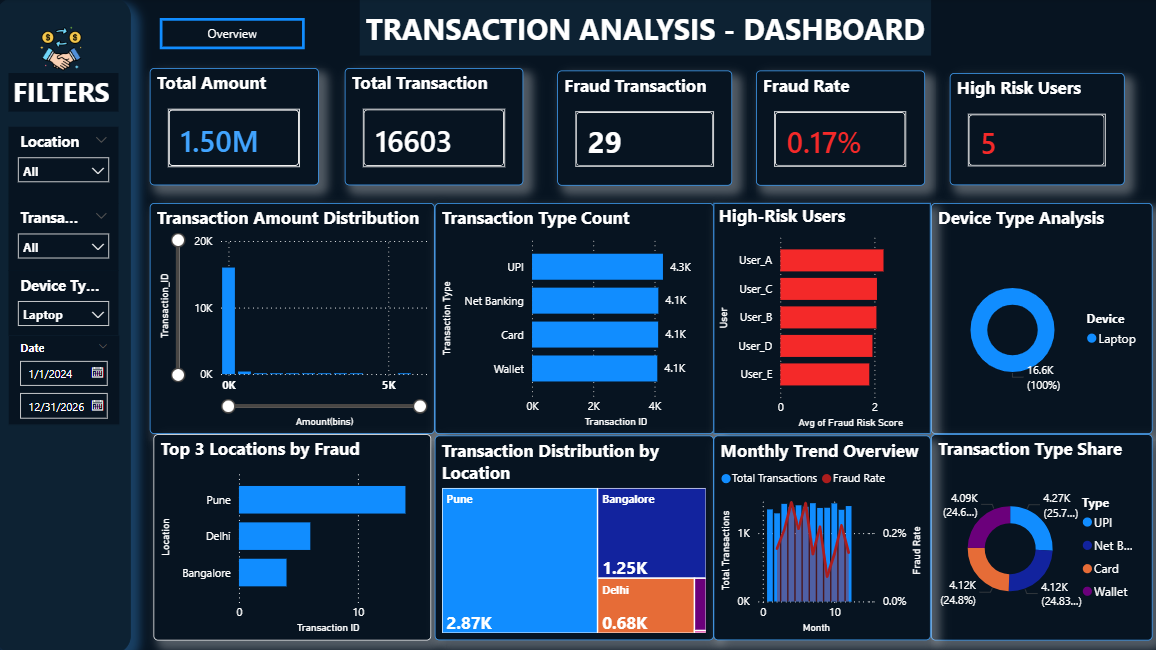

Layout of this report page (visuals, bound fields, positions):
{"tool":"powerbi","page":{"name":"Page 2","canvas":[1280,720],"ordinal":1},"visuals":[{"type":"textbox","title":"FILTERS","box":[0,0,148.4,720.2],"z":0},{"type":"textbox","title":"TRANSACTION ANALYSIS - DASHBOARD","box":[399.7,0,627,63.4],"z":1000},{"type":"cardVisual","title":"Total Amount","fields":{"Data":["enriched_data.Total Amount"]},"box":[168.8,76.8,185.2,129],"z":2000},{"type":"cardVisual","title":"Total Transaction","fields":{"Data":["enriched_data.Total Transactions"]},"box":[382.8,76.8,196.2,129],"z":3000},{"type":"cardVisual","title":"Fraud Transaction","fields":{"Data":["enriched_data.Fraudulent Transactions"]},"box":[616.1,79.6,192.1,126.2],"z":4000},{"type":"cardVisual","title":"Fraud Rate","fields":{"Data":["enriched_data.Fraud Rate"]},"box":[834.3,79.6,185.2,126.2],"z":5000},{"type":"cardVisual","title":"High Risk Users","fields":{"Data":["enriched_data.High Risk Users"]},"box":[1046.7,81.7,191.7,123.3],"z":6000},{"type":"clusteredColumnChart","title":"Transaction Amount Distribution","fields":{"Category":["enriched_data.amount (bins)"],"Y":["CountNonNull(enriched_data.transaction_id)"]},"box":[168.8,225,312.9,253.9],"z":7000},{"type":"clusteredBarChart","title":"Transaction Type Count","fields":{"Category":["enriched_data.transaction_type"],"Y":["CountNonNull(enriched_data.transaction_id)"]},"box":[481.6,225,306,253.9],"z":8000},{"type":"donutChart","title":"Device Type Analysis","fields":{"Category":["enriched_data.device_type"],"Y":["CountNonNull(enriched_data.transaction_id)"]},"box":[1026.4,225,242.9,253.9],"z":9000},{"type":"clusteredBarChart","title":"Top 3 Locations by Fraud","fields":{"Category":["enriched_data.location"],"Y":["CountNonNull(enriched_data.transaction_id)"]},"box":[172.9,478.9,304.6,226.4],"z":10000},{"type":"clusteredBarChart","title":"High-Risk Users","fields":{"Category":["enriched_data.user"],"Y":["Avg(enriched_data.fraud_risk_score)"]},"box":[787.7,225,238.8,253.9],"z":11000},{"type":"treemap","title":"Transaction Distribution by Location","fields":{"Group":["enriched_data.location"],"Values":["enriched_data.Total Amount"]},"box":[481.6,480.3,306,225],"z":12000},{"type":"donutChart","title":"Transaction Type Share","fields":{"Category":["enriched_data.transaction_type"],"Y":["CountNonNull(enriched_data.transaction_id)"]},"box":[1026.4,478.9,242.9,226.4],"z":13000},{"type":"lineClusteredColumnComboChart","title":"Monthly Trend Overview","fields":{"Category":["enriched_data.month"],"Y":["enriched_data.Total Transactions"],"Y2":["enriched_data.Fraud Rate"]},"box":[788,480,238,225],"z":14000},{"type":"slicer","fields":{"Values":["enriched_data.location"]},"box":[13.7,141.3,120.8,83.7],"z":15000},{"type":"slicer","fields":{"Values":["enriched_data.transaction_date"]},"box":[13.8,370.7,121.3,97.8],"z":16000},{"type":"slicer","fields":{"Values":["enriched_data.transaction_type"]},"box":[13.7,225,120.8,74.1],"z":17000},{"type":"slicer","fields":{"Values":["enriched_data.device_type"]},"box":[13.7,299.1,120.8,71.4],"z":18000},{"type":"textbox","title":"FILTERS","box":[13.7,82.3,120.8,42.5],"z":19000},{"type":"image","box":[44.1,31.7,56.5,48.2],"z":20000},{"type":"actionButton","title":"Overview ","box":[179.8,22,159.2,34.3],"z":21000}]}

Visuals, with their boxes in screenshot pixels (x1, y1, x2, y2), scaled from the page's 1280x720 canvas onto the 1156x650 screenshot:
"FILTERS" textbox: <bbox>0, 0, 134, 649</bbox>
"TRANSACTION ANALYSIS - DASHBOARD" textbox: <bbox>361, 0, 927, 57</bbox>
"Total Amount" cardVisual: <bbox>152, 69, 320, 186</bbox>
"Total Transaction" cardVisual: <bbox>346, 69, 523, 186</bbox>
"Fraud Transaction" cardVisual: <bbox>556, 72, 730, 186</bbox>
"Fraud Rate" cardVisual: <bbox>753, 72, 921, 186</bbox>
"High Risk Users" cardVisual: <bbox>945, 74, 1118, 185</bbox>
"Transaction Amount Distribution" clusteredColumnChart: <bbox>152, 203, 435, 432</bbox>
"Transaction Type Count" clusteredBarChart: <bbox>435, 203, 711, 432</bbox>
"Device Type Analysis" donutChart: <bbox>927, 203, 1146, 432</bbox>
"Top 3 Locations by Fraud" clusteredBarChart: <bbox>156, 432, 431, 637</bbox>
"High-Risk Users" clusteredBarChart: <bbox>711, 203, 927, 432</bbox>
"Transaction Distribution by Location" treemap: <bbox>435, 434, 711, 637</bbox>
"Transaction Type Share" donutChart: <bbox>927, 432, 1146, 637</bbox>
"Monthly Trend Overview" lineClusteredColumnComboChart: <bbox>712, 433, 927, 636</bbox>
slicer - enriched_data.location: <bbox>12, 128, 121, 203</bbox>
slicer - enriched_data.transaction_date: <bbox>12, 335, 122, 423</bbox>
slicer - enriched_data.transaction_type: <bbox>12, 203, 121, 270</bbox>
slicer - enriched_data.device_type: <bbox>12, 270, 121, 334</bbox>
"FILTERS" textbox: <bbox>12, 74, 121, 113</bbox>
image: <bbox>40, 29, 91, 72</bbox>
"Overview " actionButton: <bbox>162, 20, 306, 51</bbox>
